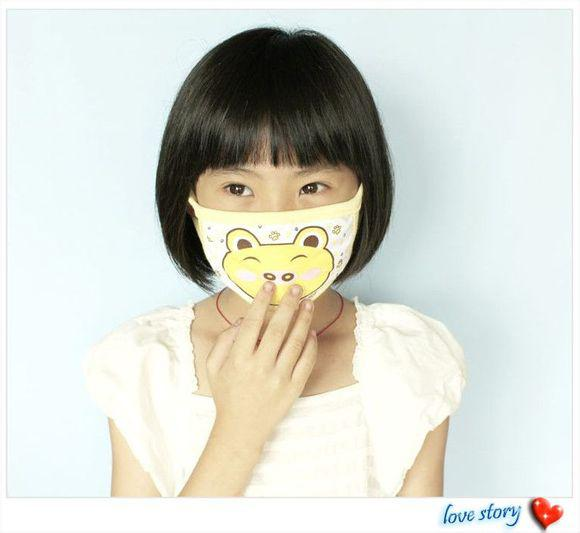OK: (199, 154, 349, 304)
